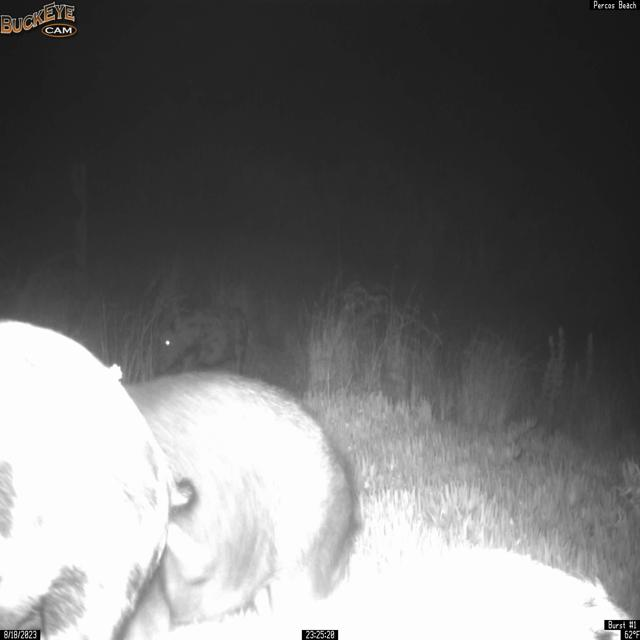pig: (0, 317, 196, 640)
